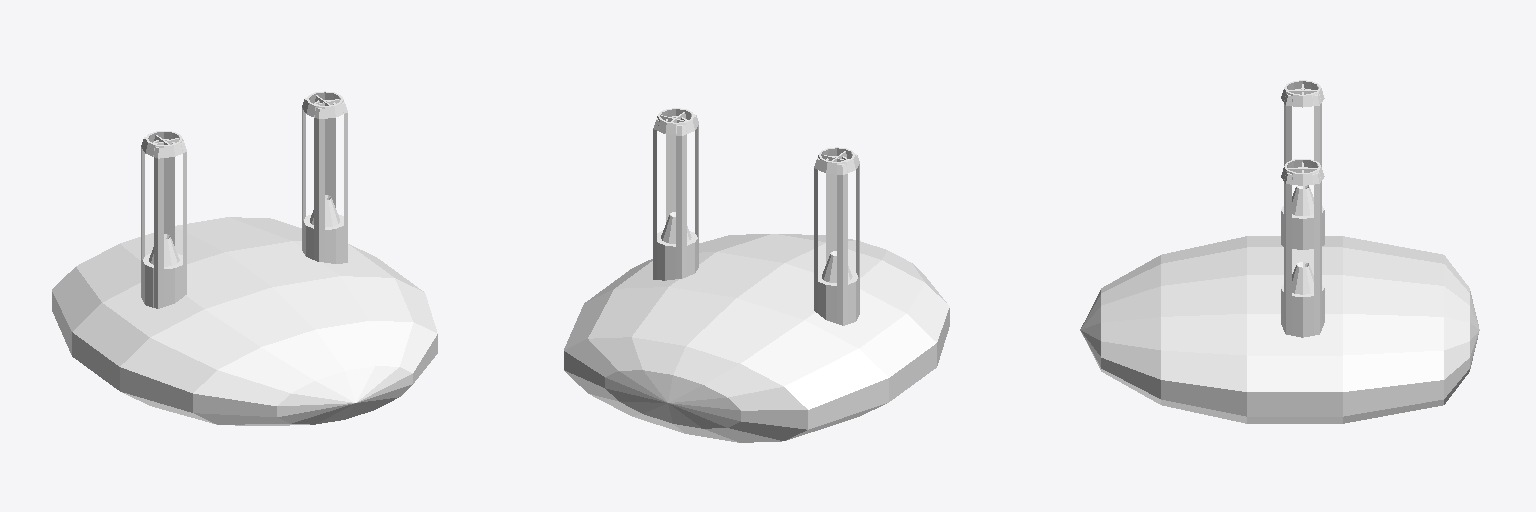
File: Underworld_Black_Sun_TYEwing.obj
The picture shows the model from 3 angles: view 1: azimuth 30°, elevation 25°; view 2: azimuth 150°, elevation 25°; view 3: azimuth 270°, elevation 25°; orthographic projection.
Parts seen in each view (by area): view 1: Shield, chassis; view 2: Shield, chassis; view 3: Shield, chassis.
Boxes of the visible parts, <box> form: Shield: <box>52,217,437,425</box>; chassis: <box>141,91,347,308</box>; Shield: <box>564,234,949,442</box>; chassis: <box>653,108,859,325</box>; Shield: <box>1080,236,1479,423</box>; chassis: <box>1281,80,1324,337</box>.
Size of the model in its own units: 6.36 by 5.13 by 7.21.